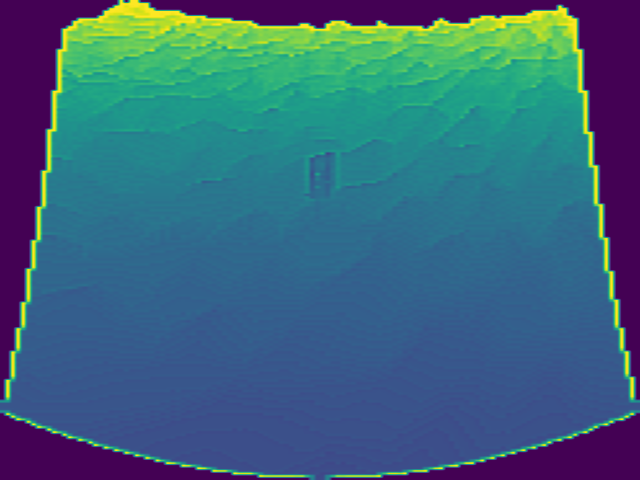car_0198: (307, 151, 335, 198)
